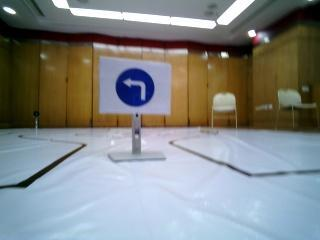left: (102, 62, 160, 109)
